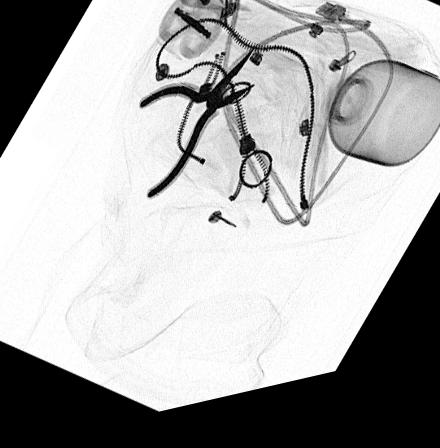Pliers: (138, 57, 256, 205)
